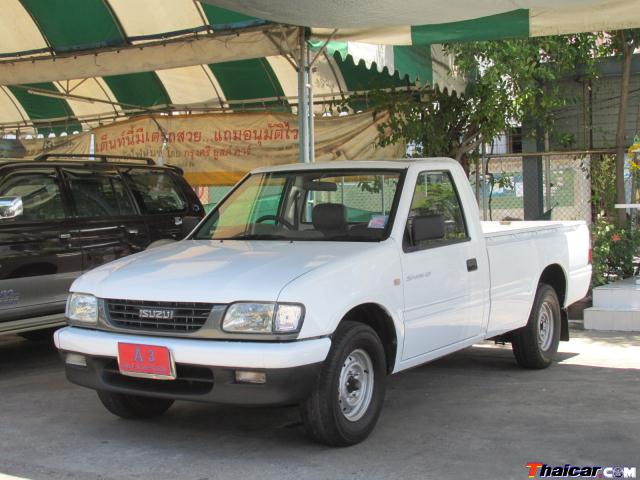pickup: (59, 156, 594, 445)
